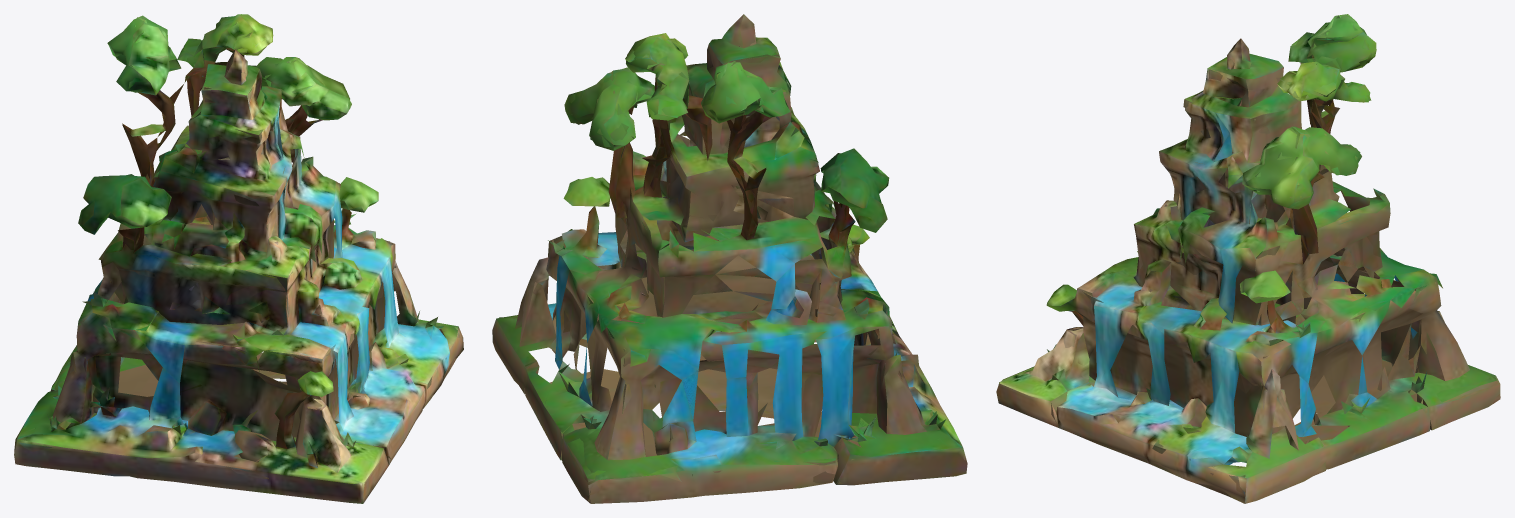
Rendered from hangingGardens.glb.
3 renders of one model, left to right at view 1: azimuth 30°, elevation 25°; view 2: azimuth 150°, elevation 25°; view 3: azimuth 270°, elevation 25°, orthographic. The views are drawn at different scales.
Visible parts, largest first — view 1: level; view 2: level; view 3: level.
Part boxes in pixels (bbox=[...]): level: bbox=[14, 14, 463, 503]; level: bbox=[492, 14, 967, 503]; level: bbox=[996, 14, 1500, 503].
Size of the model in its own units: 0.8979 by 0.7211 by 0.8917.
Materials: 1 (1 with a texture image).
